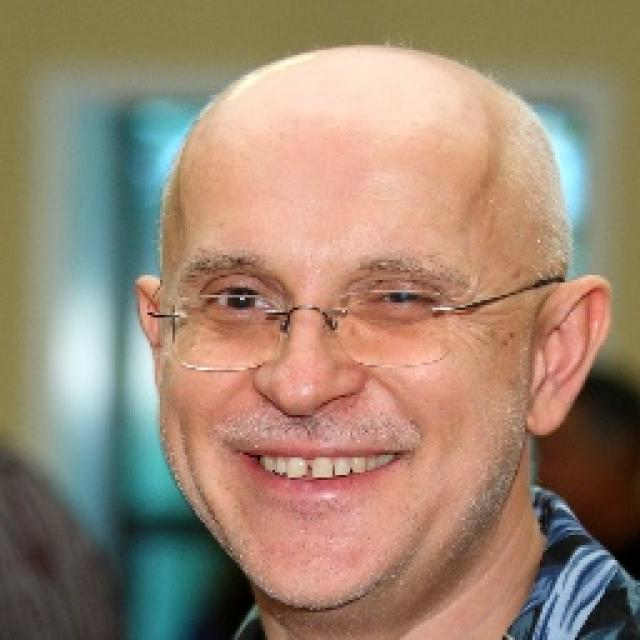earlobe: (522, 274, 613, 438)
